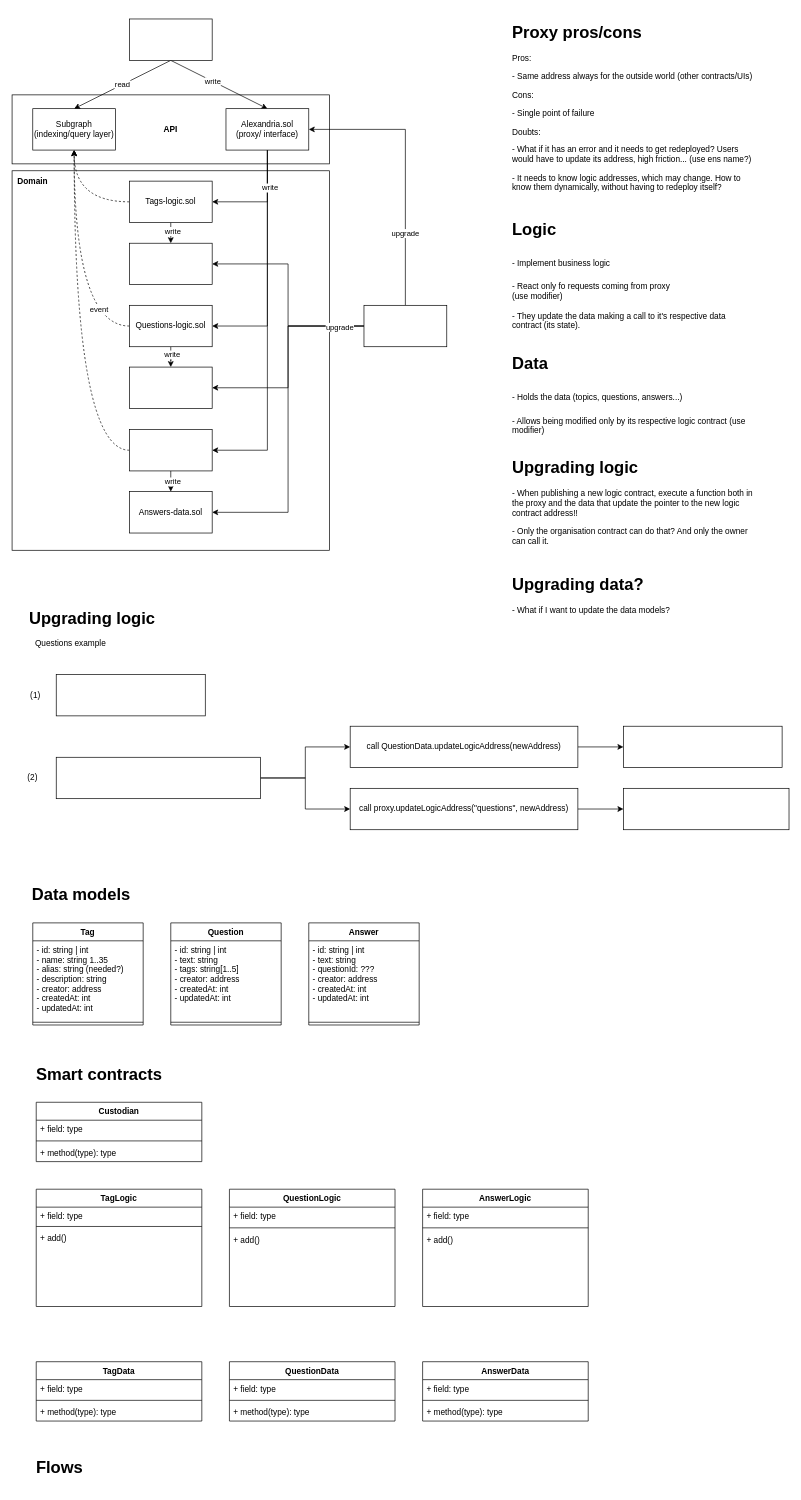
This 801x1500 diagram has some shape labels left out. The centre of each missing label's shape, as x and y in pixels:
Answers-logic.sol: the point at 170,450
call organisation.deploy("questions", newAddress): the point at 158,778
deploy new questions-logic.sol: the point at 130,695
Organisation.sol (addresses manager): the point at 405,326
Questions-data.sol: the point at 170,387
Tags-data.sol: the point at 170,264
UI: the point at 170,39
updates state.logic = newAddress: the point at 702,747
updates state.questions = newAddress: the point at 706,809
